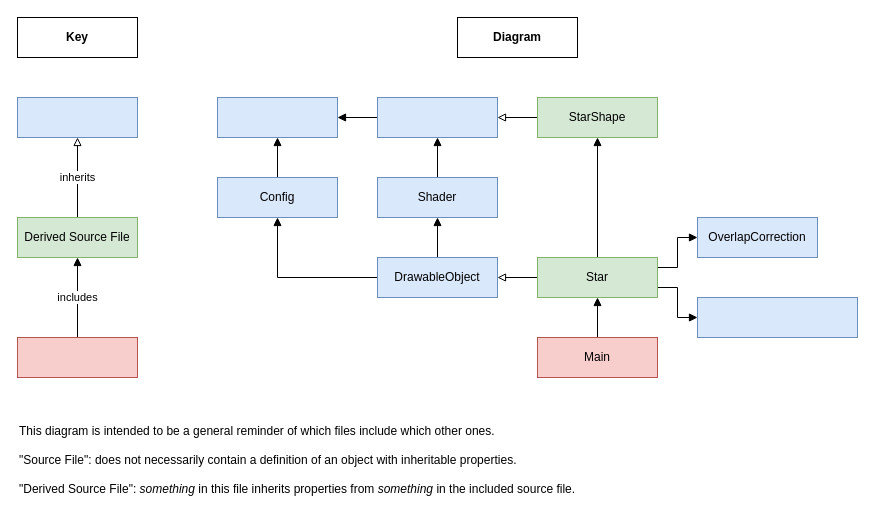
This 875x515 diagram has some shape labels left out. Each missing label, with the centre of its shape:
"Driver" goes at point (77, 357).
"ElasticCollisionResponse" goes at point (777, 317).
"MathConstants" goes at point (277, 117).
"Shape" goes at point (437, 117).
"Source File" goes at point (77, 117).
